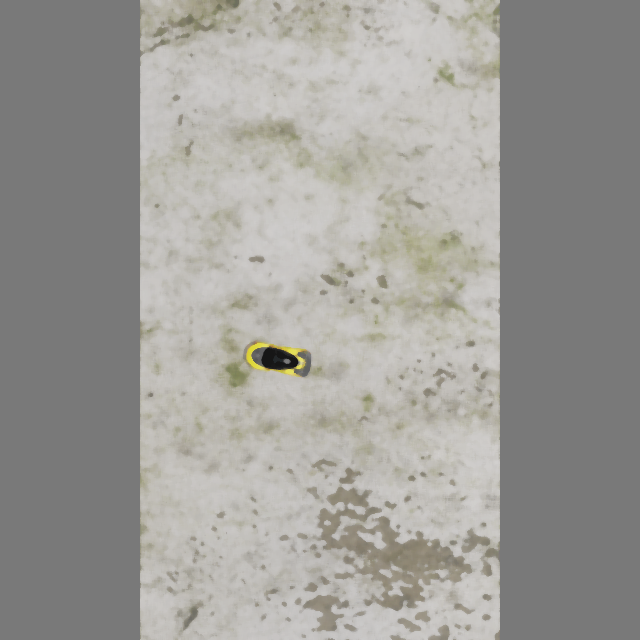car: (241, 338, 313, 381)
